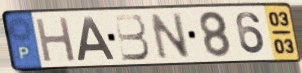6: (234, 11, 267, 56)
8: (198, 9, 233, 60)
A: (75, 15, 117, 63)
B: (112, 12, 152, 62)
H: (33, 15, 78, 64)
N: (147, 10, 192, 61)
